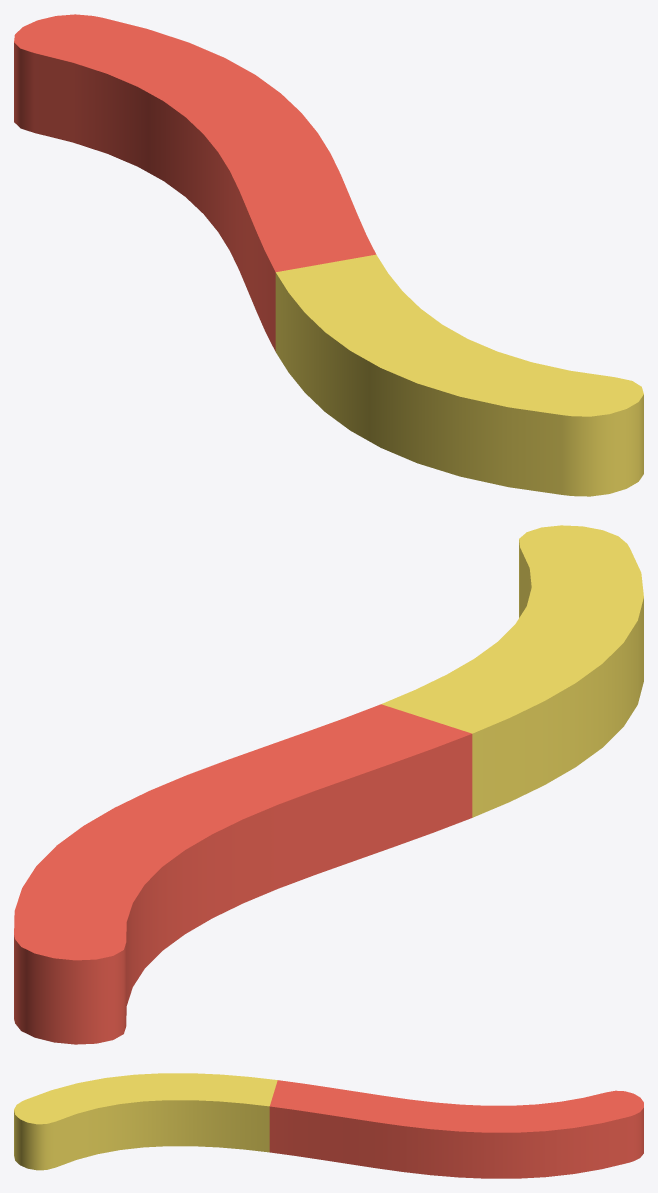
Rendered from Marmalade Worm C.fbx.
The picture shows the model from 3 angles, top to bottom: view 1: azimuth 30°, elevation 25°; view 2: azimuth 150°, elevation 25°; view 3: azimuth 270°, elevation 25°; orthographic projection. The views are drawn at different scales.
Parts seen in each view (by area): view 1: Marmalade Worm C; view 2: Marmalade Worm C; view 3: Marmalade Worm C.
Part boxes in pixels (x1,y1,x2,y2): Marmalade Worm C: [14, 14, 643, 496]; Marmalade Worm C: [14, 525, 643, 1044]; Marmalade Worm C: [14, 1073, 643, 1178].
Bounding box in the file's own units: 0.0923 × 0.0333 × 0.4129.
